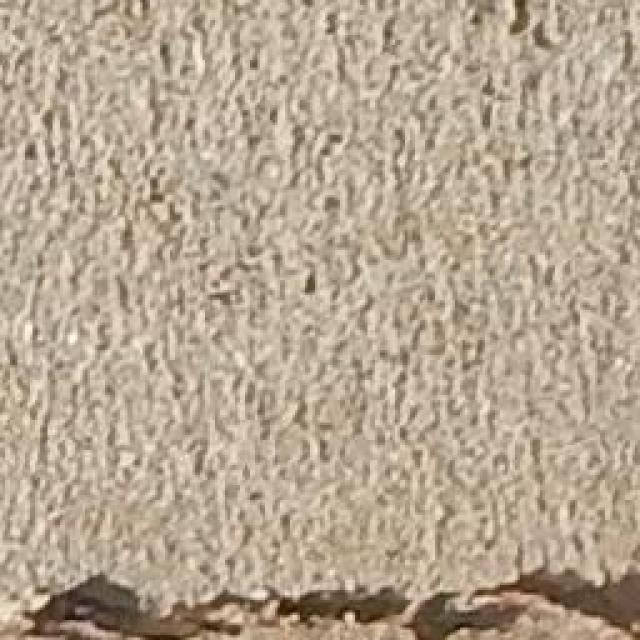concrete-crack: (0, 560, 640, 640)
